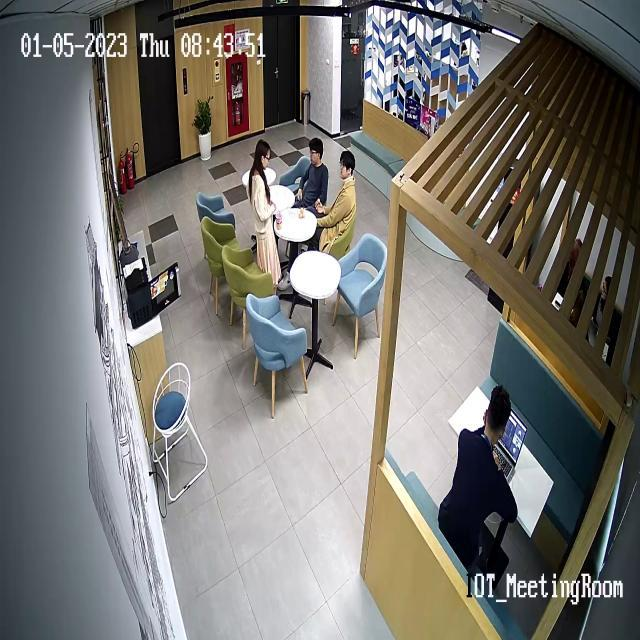person: (439, 385, 519, 597), (247, 139, 280, 291), (315, 147, 357, 257), (293, 137, 329, 212)
